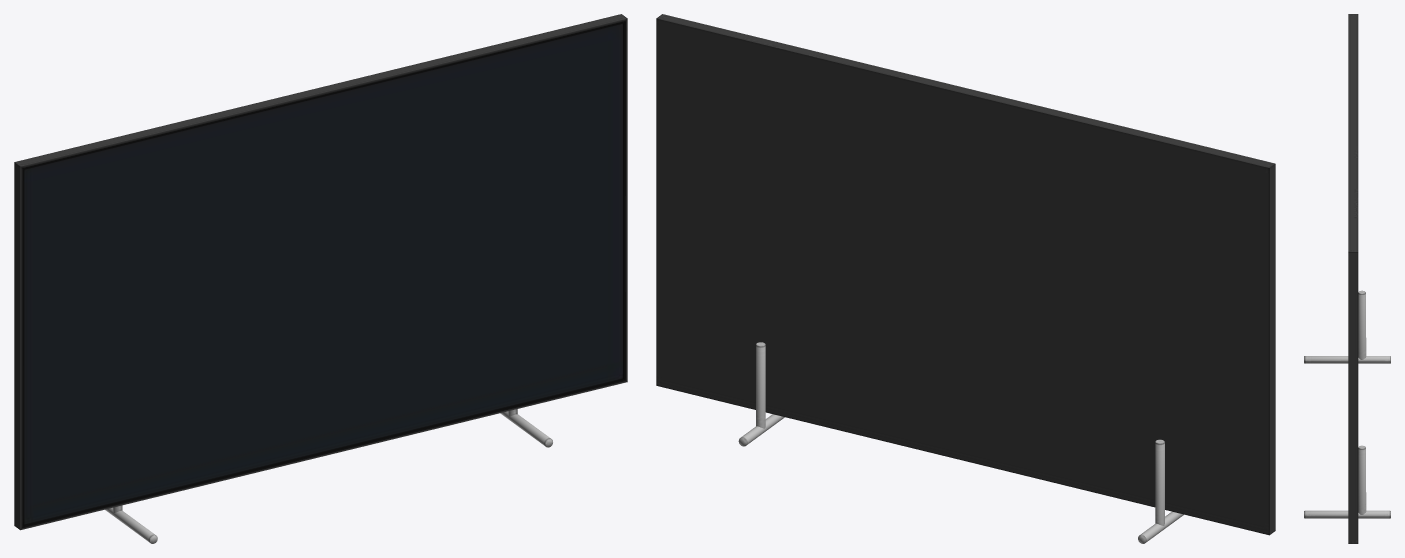
3 views of the same model, side by side, from view 1: azimuth 30°, elevation 25°; view 2: azimuth 150°, elevation 25°; view 3: azimuth 270°, elevation 25° (orthographic). The views are drawn at different scales.
Visible parts, largest first — view 1: tv2018; view 2: tv2018; view 3: tv2018.
Part boxes in pixels (<box>): tv2018: <box>14,14,627,543</box>; tv2018: <box>656,14,1275,543</box>; tv2018: <box>1304,14,1390,543</box>.
Size of the model in its own units: 2 by 1.21 by 0.3087.
Materials: 1 (1 with a texture image).
